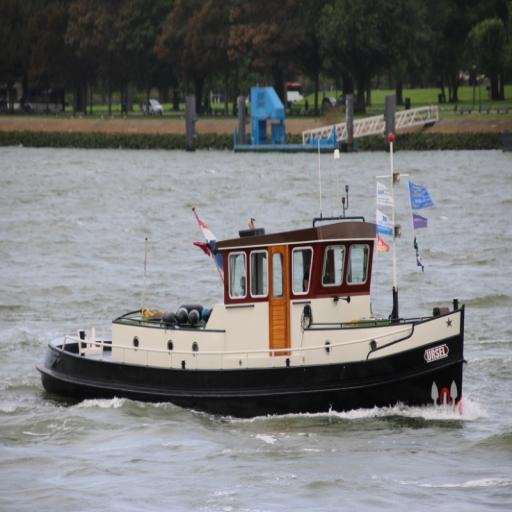tugboat: (33, 207, 470, 433)
